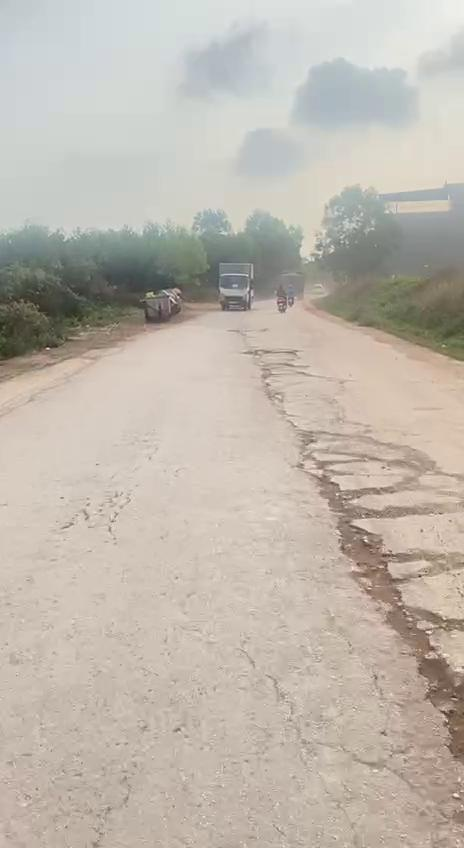pothole: (292, 434, 456, 600), (375, 590, 464, 776)
